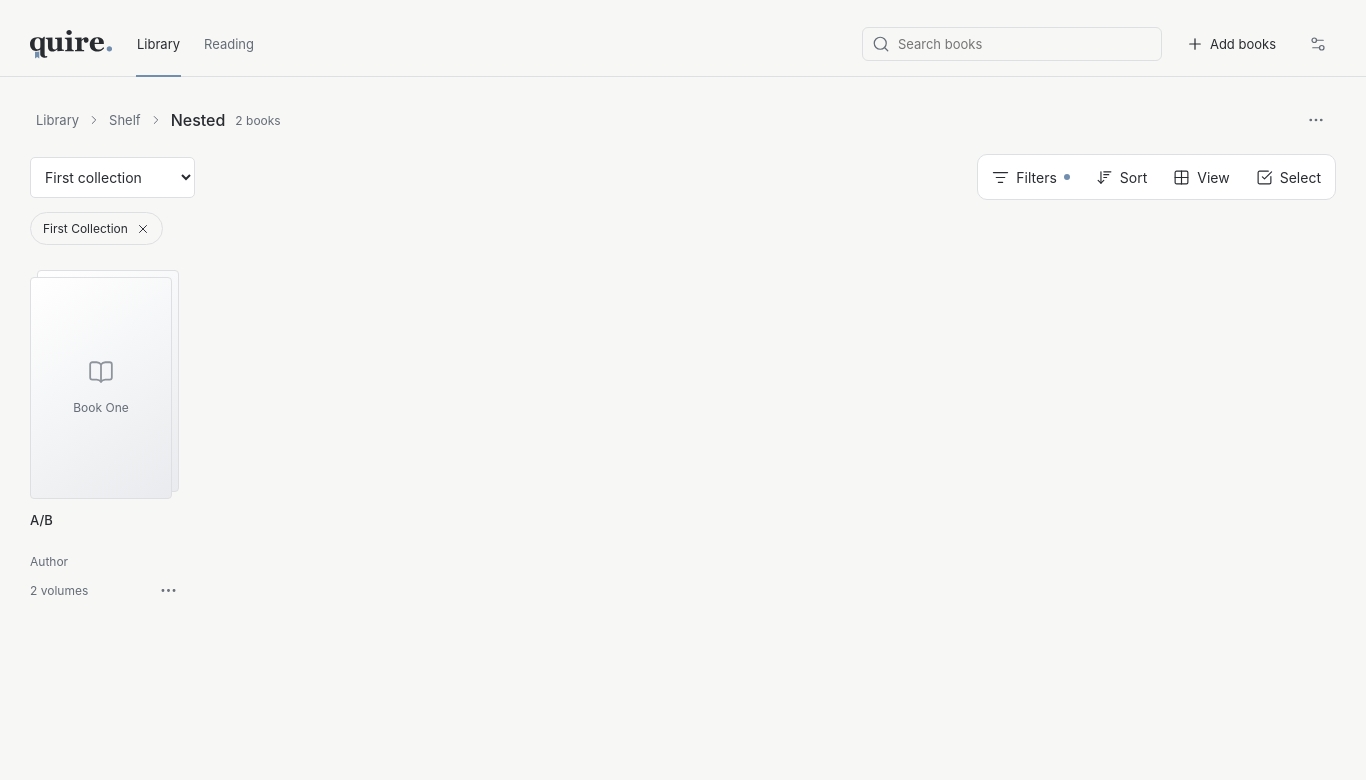
Test: renders nested breadcrumbs with navigable ancestors and a current folder
The image size is (1366, 780).
Expected: the heading "Nested" is shown, [171,110,225,130]
What coordinates should you click on to do the following:
click the link "Shelf"
I would click on:
 (125, 120)
Its box is [109,112,141,128].
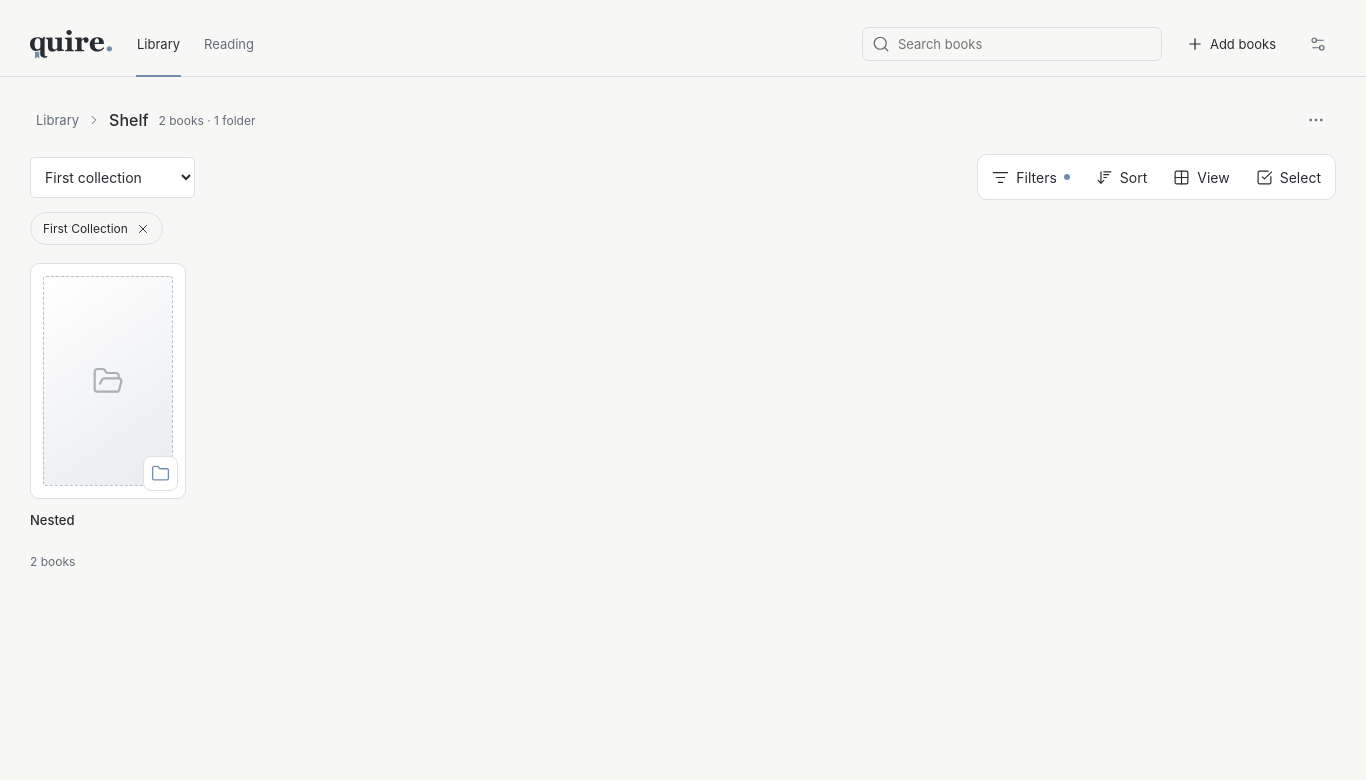
Result: the heading "Shelf" is shown at [109,110,149,130]
